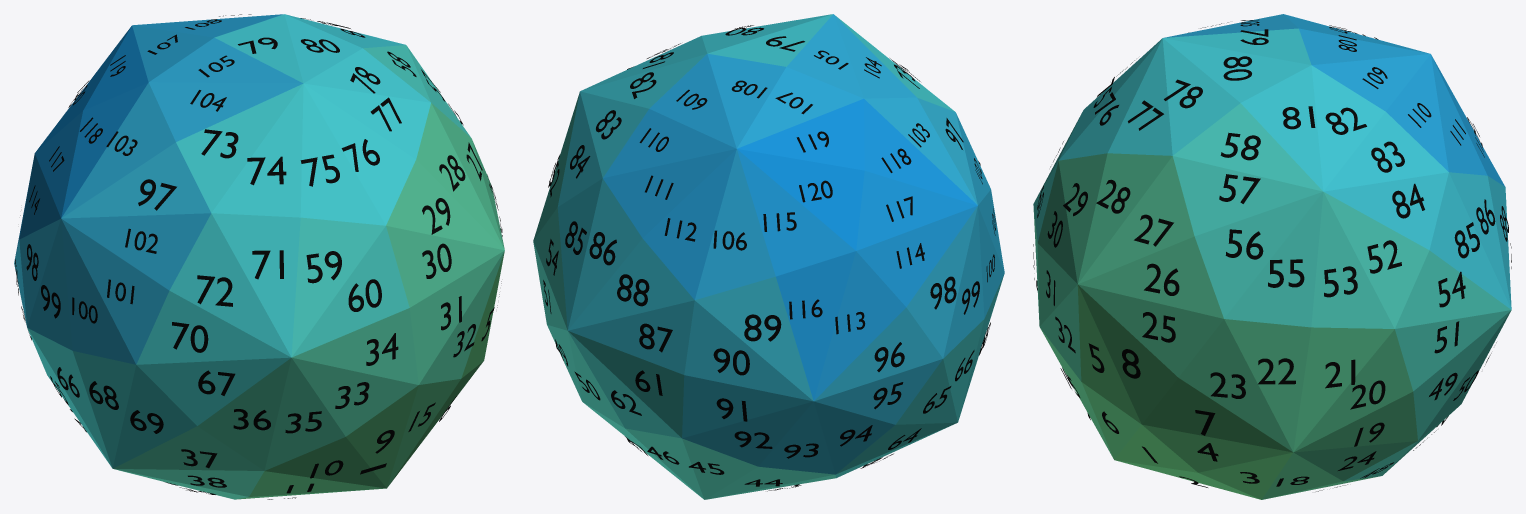
3 views of the same model, side by side, from view 1: azimuth 30°, elevation 25°; view 2: azimuth 150°, elevation 25°; view 3: azimuth 270°, elevation 25° (orthographic). The views are drawn at different scales.
Visible parts, largest first — view 1: d120, d120_num; view 2: d120, d120_num; view 3: d120, d120_num.
Part boxes in pixels (left/top/right/bottom): d120: left=14, top=14, right=504, bottom=499; d120_num: left=15, top=14, right=502, bottom=499; d120: left=533, top=14, right=1004, bottom=499; d120_num: left=543, top=25, right=996, bottom=491; d120: left=1033, top=14, right=1511, bottom=499; d120_num: left=1033, top=19, right=1511, bottom=491.
Size of the model in its own units: 4.75 by 4.74 by 4.76.
